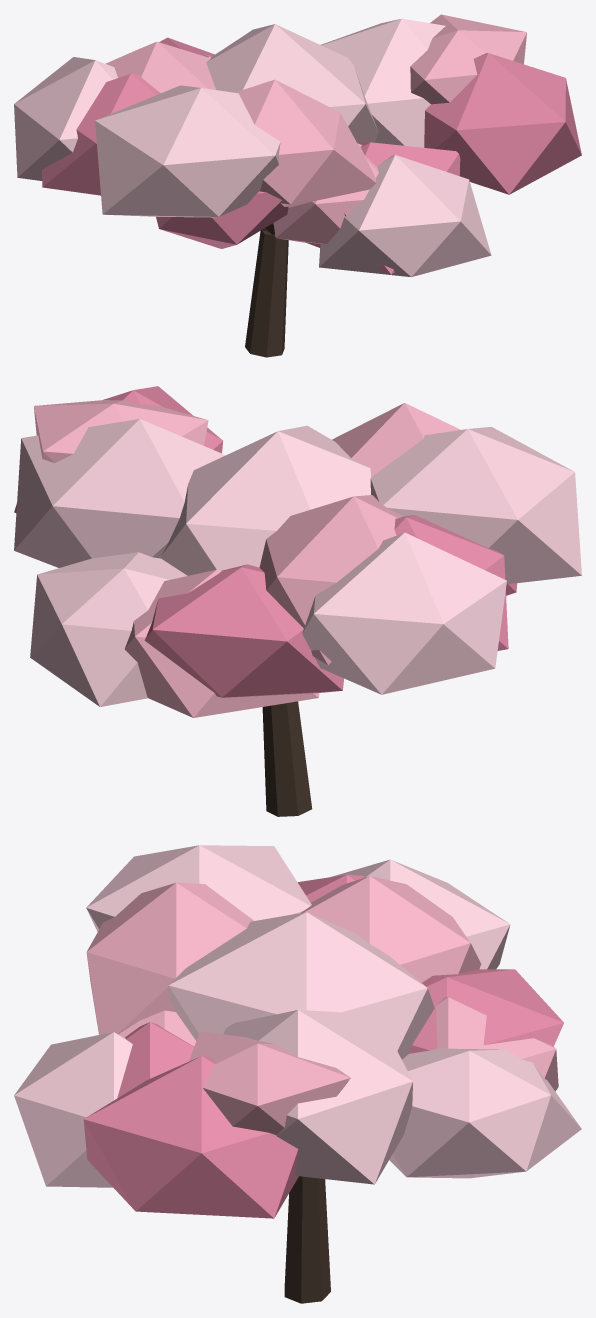
File: korsbar_1.glb
3 views of the same model, one above another, from view 1: azimuth 30°, elevation 25°; view 2: azimuth 150°, elevation 25°; view 3: azimuth 270°, elevation 25° (orthographic). The views are drawn at different scales.
Visible parts, largest first — view 1: korsbar_1; view 2: korsbar_1; view 3: korsbar_1.
Part boxes in pixels (left/top/right/bottom): korsbar_1: left=14, top=14, right=581, bottom=357; korsbar_1: left=14, top=386, right=581, bottom=816; korsbar_1: left=14, top=845, right=581, bottom=1303.
Size of the model in its own units: 9.27 by 6.13 by 8.15.
